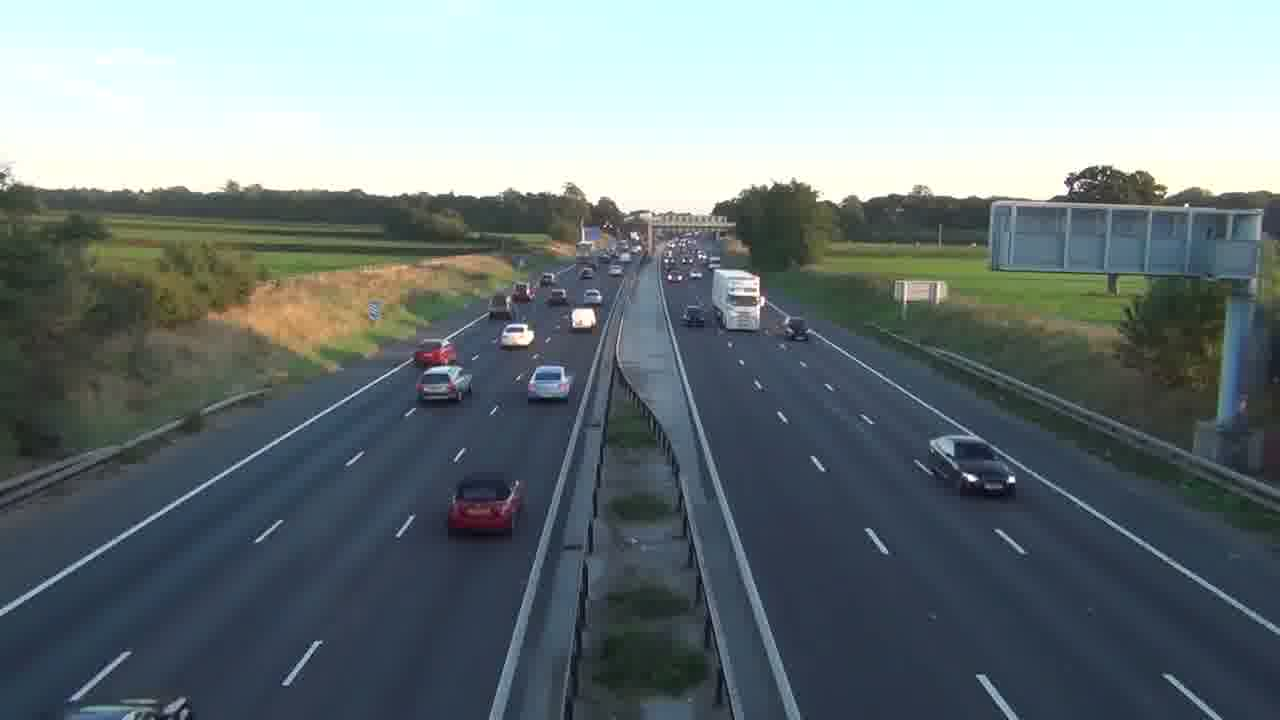car: (927, 433, 1017, 498), (446, 472, 527, 535), (416, 365, 464, 403), (528, 365, 572, 401), (570, 305, 598, 333)
truck: (711, 267, 762, 333)
